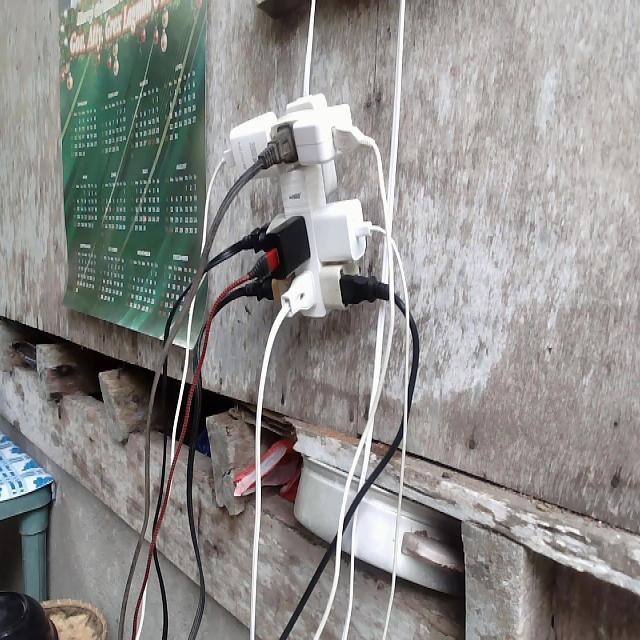-: (228, 90, 378, 322)
